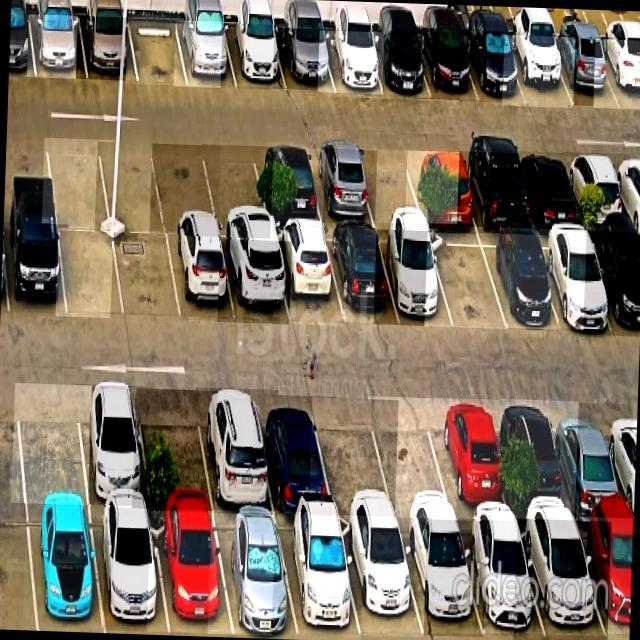empty: (368, 399, 455, 518), (312, 398, 394, 516), (136, 388, 213, 510), (16, 384, 88, 503), (428, 233, 506, 328), (97, 141, 165, 234), (202, 145, 270, 238), (45, 138, 110, 229), (153, 144, 218, 235), (113, 233, 180, 321), (59, 230, 123, 317), (356, 149, 424, 222), (128, 18, 188, 85)
occupied: (276, 515, 361, 640), (517, 520, 605, 640), (212, 513, 297, 636), (150, 510, 233, 634), (338, 516, 423, 637), (458, 519, 545, 637), (397, 520, 483, 636), (431, 399, 511, 520), (91, 507, 168, 632), (27, 506, 102, 632), (550, 402, 629, 521), (196, 390, 273, 511), (255, 394, 332, 512), (500, 399, 574, 520), (76, 384, 149, 506), (534, 231, 614, 329), (479, 234, 558, 328), (377, 229, 452, 327), (575, 519, 633, 640), (326, 228, 399, 322), (273, 227, 343, 324), (167, 236, 236, 321), (3, 223, 65, 317), (221, 239, 289, 323), (587, 231, 640, 336), (459, 152, 531, 228), (253, 148, 322, 223), (548, 35, 620, 106), (307, 148, 375, 222), (408, 151, 476, 224), (504, 35, 573, 106), (515, 152, 581, 225), (564, 152, 628, 226), (462, 31, 526, 103), (416, 29, 478, 100), (223, 23, 286, 90), (367, 31, 430, 98), (176, 20, 236, 88), (319, 30, 382, 94), (78, 16, 137, 80), (29, 14, 86, 79), (275, 28, 333, 90), (595, 39, 640, 109)
